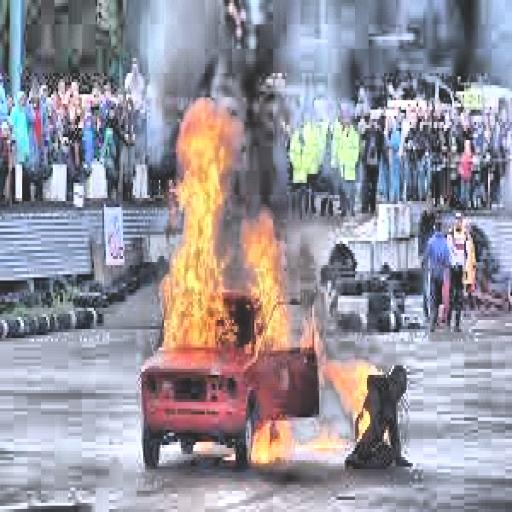fire: (159, 104, 247, 360), (236, 208, 306, 476), (311, 317, 384, 442)
